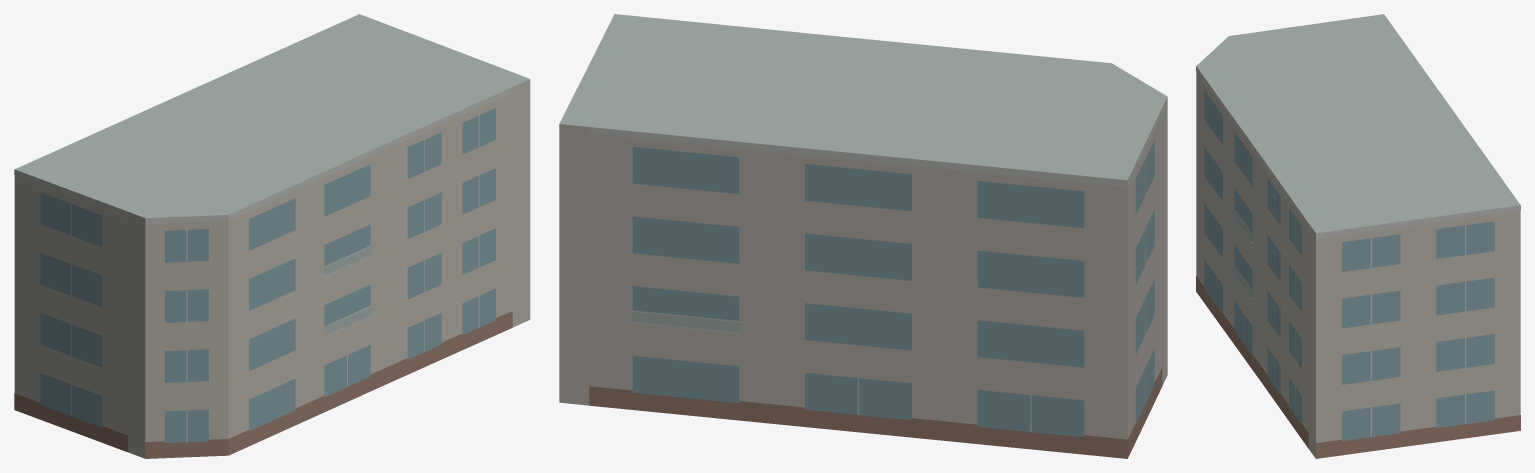
Rendered from survey-upis-32779169.glb.
3 views of the same model, side by side, from view 1: azimuth 30°, elevation 25°; view 2: azimuth 150°, elevation 25°; view 3: azimuth 270°, elevation 25° (orthographic). The views are drawn at different scales.
Visible parts, largest first — view 1: survey-upis-32779169.tmp; view 2: survey-upis-32779169.tmp; view 3: survey-upis-32779169.tmp.
Part boxes in pixels (box(x1,y1,x2,y2)): survey-upis-32779169.tmp: box(14, 14, 530, 458); survey-upis-32779169.tmp: box(559, 14, 1167, 458); survey-upis-32779169.tmp: box(1196, 14, 1520, 458).
Size of the model in its own units: 21.28 by 10.2 by 13.31.
